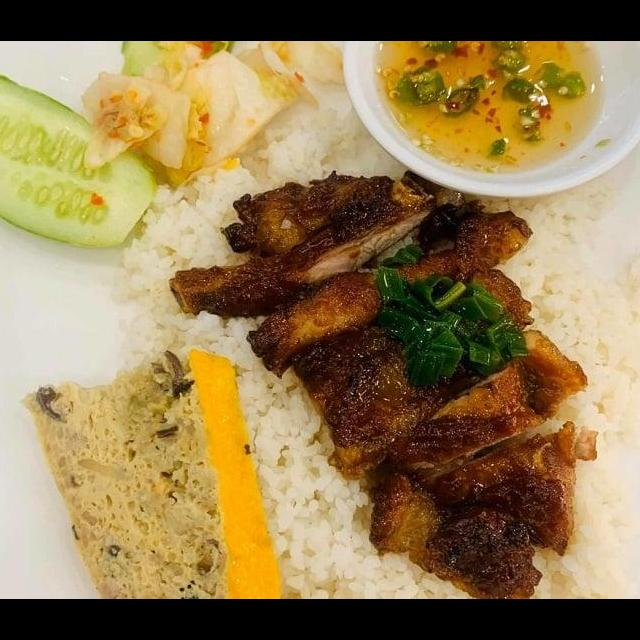cha: (17, 345, 288, 599)
com: (491, 183, 640, 446), (111, 165, 273, 383), (240, 365, 385, 599), (243, 104, 372, 196)
com suon cha: (1, 71, 640, 599)
dua chua: (76, 42, 345, 204)
suon: (284, 265, 536, 482), (243, 205, 536, 381), (167, 165, 449, 323), (357, 327, 590, 509), (367, 418, 600, 599)
